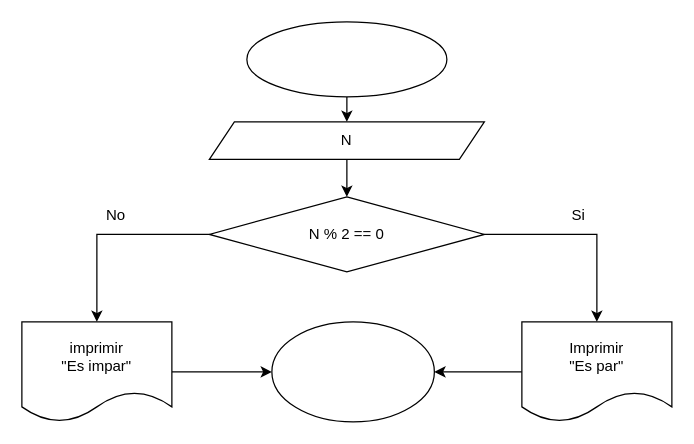
Image size: 694x444. Some labels were removed from this diagram. Each missing label, with the centre of its shape:
"FIN" goes at [352,371].
"INICIO" goes at [346,59].
